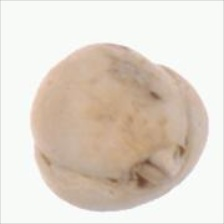L3: (130, 142, 189, 189)
L4: (30, 43, 209, 212)
